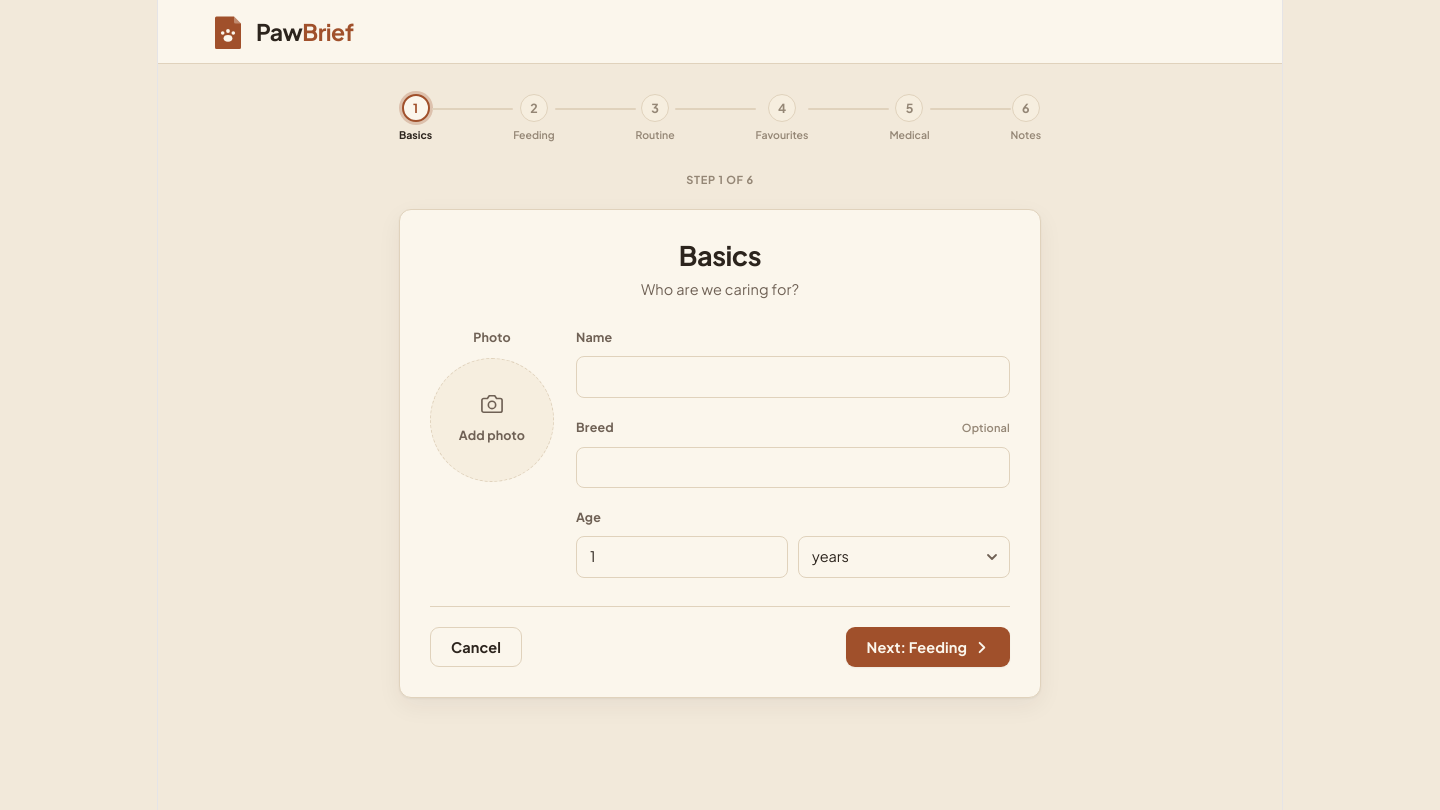
it: WizardPage step navigation › submitting a step saves data and navigates to the next step
Type "Luna" into the field labelled "Name" at (793,377), box [576,356,1010,398]
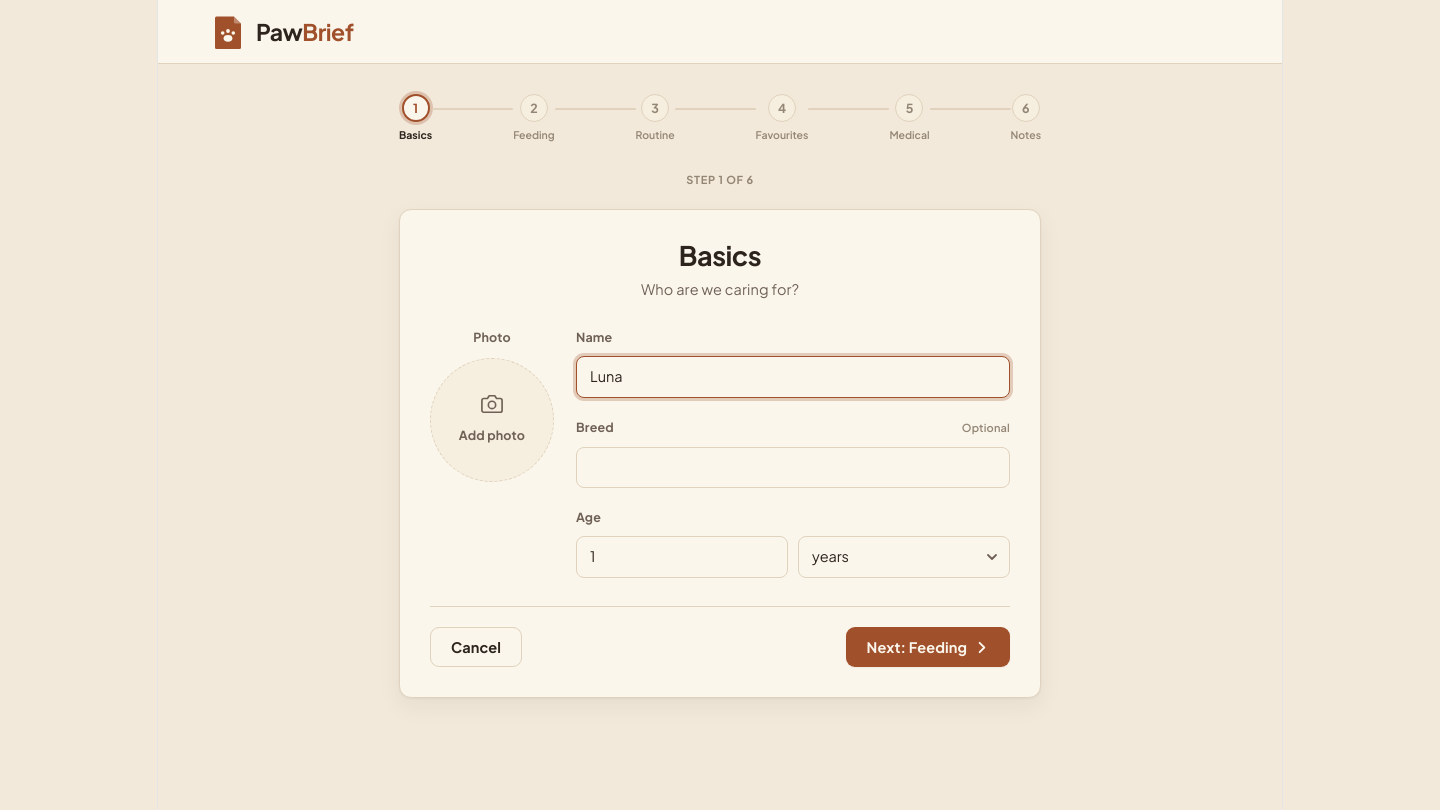
Click the button "Next: Feeding" at (928,647), box [846,627,1010,667]
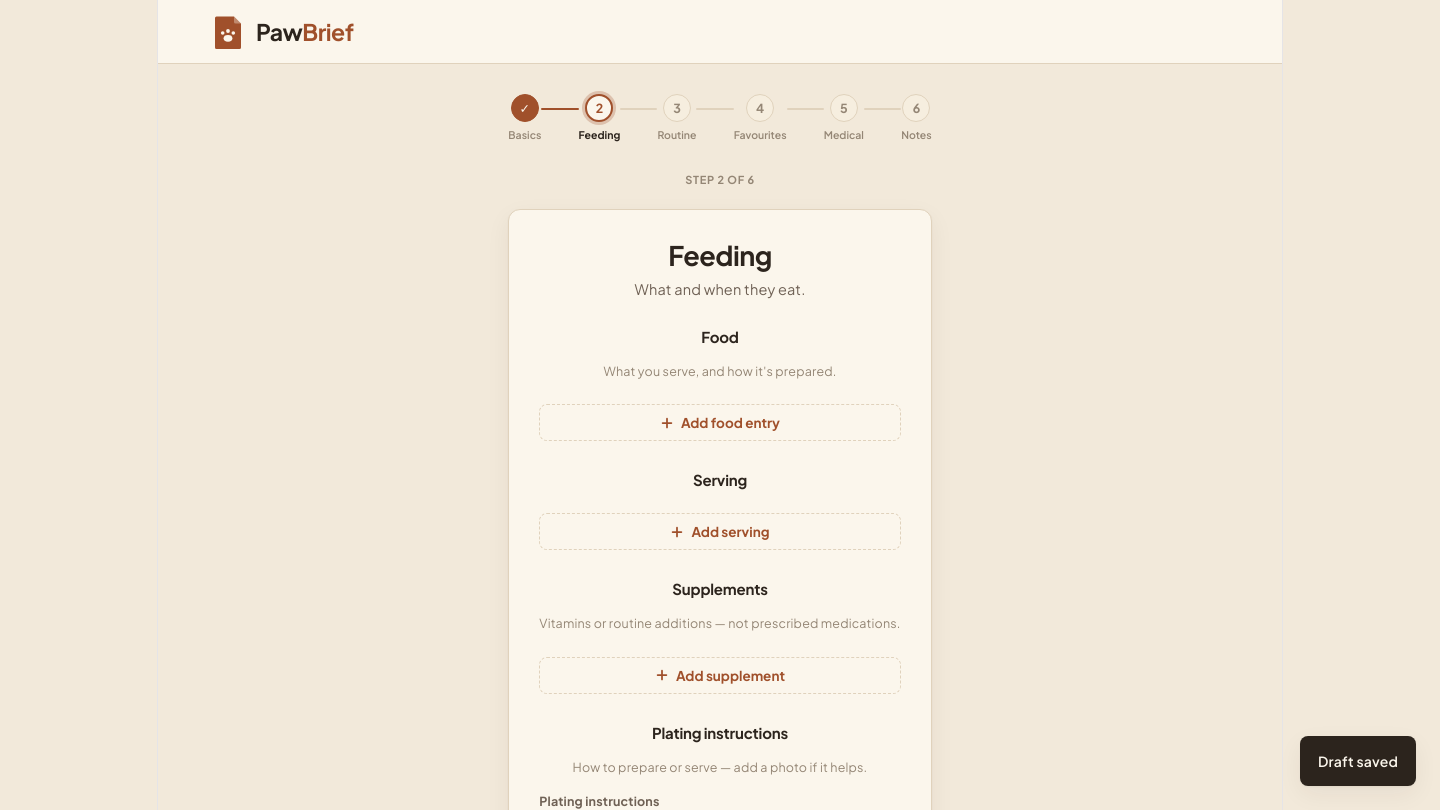
Expected: the button "Add food entry" is shown, [539,404,901,441]
